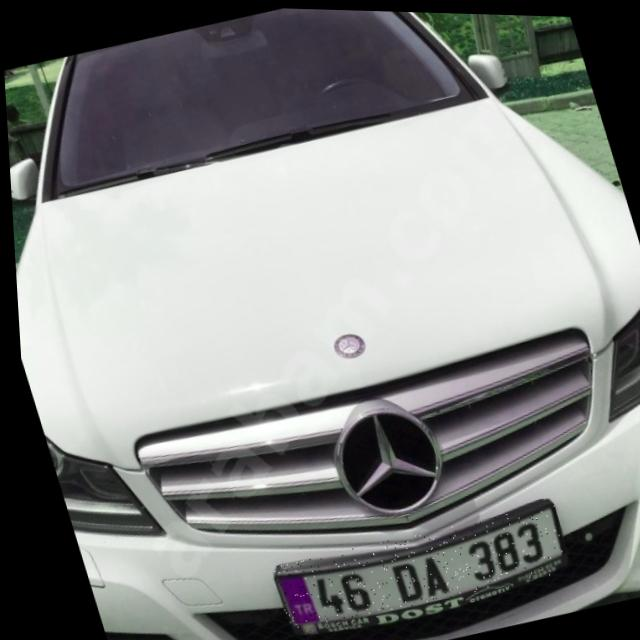license_plate: (260, 493, 570, 638)
